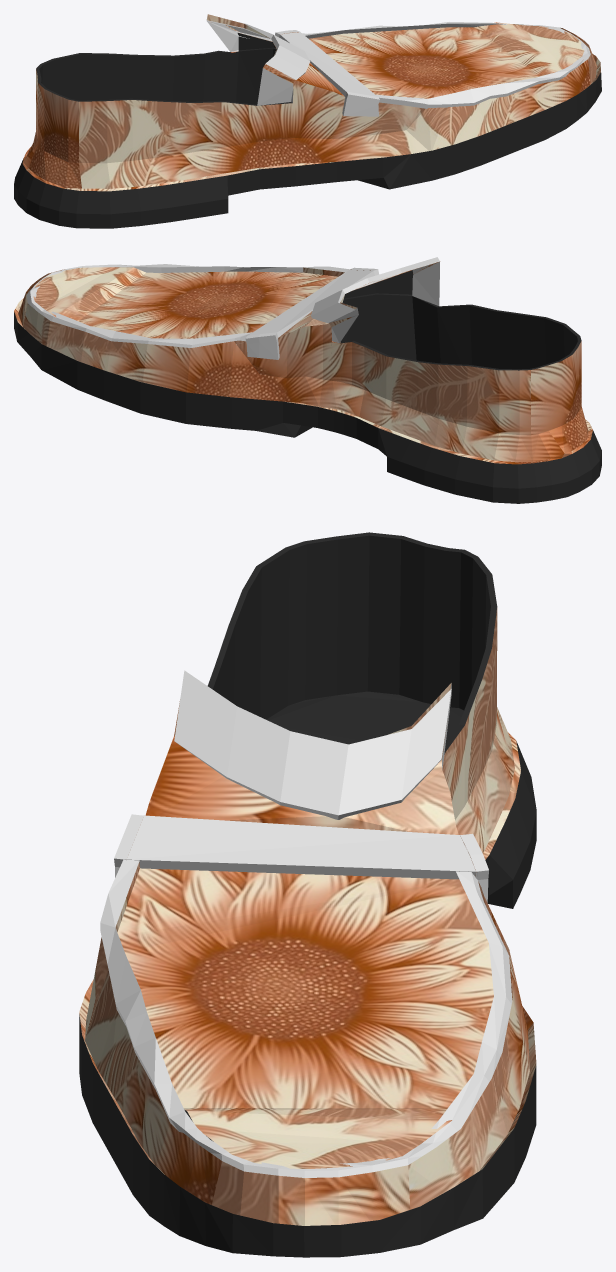
The model's file is loafers2.fbx.
3 renders of one model, top to bottom at view 1: azimuth 30°, elevation 25°; view 2: azimuth 150°, elevation 25°; view 3: azimuth 270°, elevation 25°, orthographic. The views are drawn at different scales.
Parts seen in each view (by area): view 1: loafers2; view 2: loafers2; view 3: loafers2.
Part boxes in pixels (x1=…): loafers2: x1=14, y1=14, x2=601, y2=228; loafers2: x1=14, y1=257, x2=601, y2=503; loafers2: x1=79, y1=532, x2=536, y2=1257.
Bounding box in the file's own units: 2.09 × 0.4914 × 0.7489.
